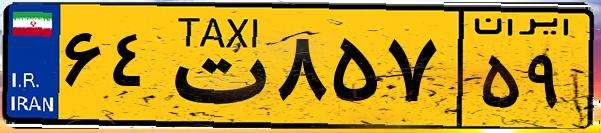4: (110, 28, 158, 98)
5: (330, 28, 385, 110), (475, 38, 525, 113)
6: (57, 26, 110, 100)
7: (385, 28, 445, 110)
8: (270, 28, 330, 110)
9: (525, 38, 570, 115)
ت: (158, 12, 270, 120)
